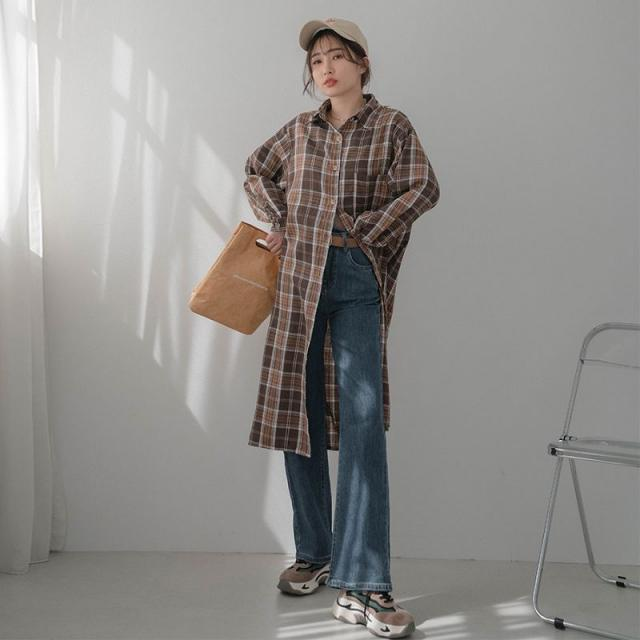plaid: (243, 109, 435, 243)
